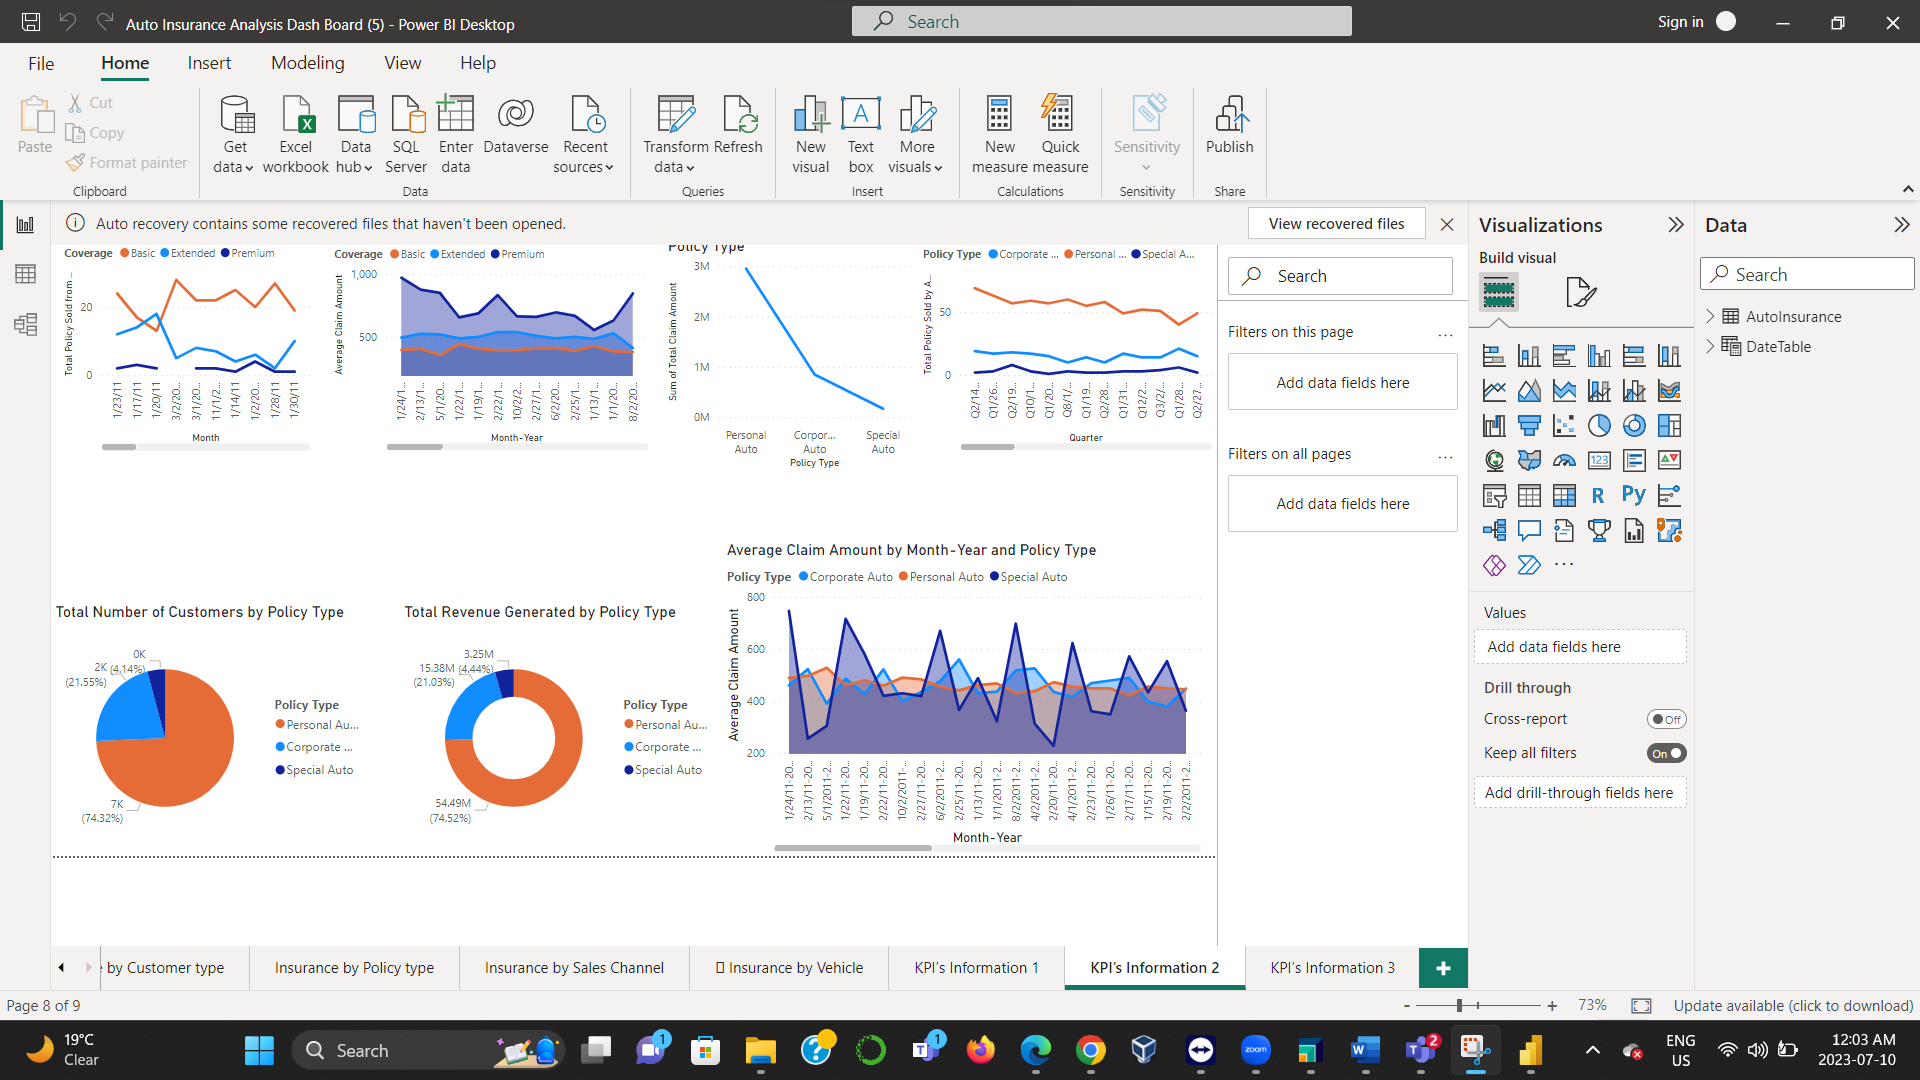

The dashboard page shown, as its layout file describes it:
{"tool":"powerbi","page":{"name":"KPI’s Information 2","canvas":[1280,720],"ordinal":7},"visuals":[{"type":"lineChart","fields":{"Y":["AutoInsurance.Total Policy Sold from Web"],"Category":["AutoInsurance.Month"],"Series":["AutoInsurance.Coverage"]},"box":[10,0,280,280],"z":0},{"type":"areaChart","fields":{"Y":["AutoInsurance.Average Claim Amount"],"Category":["AutoInsurance.Month-Year"],"Series":["AutoInsurance.Coverage"]},"box":[305.7,1.7,354.4,278.8],"z":1000},{"type":"lineChart","fields":{"Y":["Sum(AutoInsurance.Total Claim Amount)"],"Category":["AutoInsurance.Policy Type"]},"box":[671.9,20.2,280.5,278.8],"z":2000},{"type":"pieChart","fields":{"Y":["AutoInsurance.Total Number of Customers"],"Category":["AutoInsurance.Policy Type"]},"box":[0,441.8,354.4,278.8],"z":3000},{"type":"donutChart","fields":{"Y":["AutoInsurance.Total Revenue Generated"],"Category":["AutoInsurance.Policy Type"]},"box":[383,441.8,354.4,278.8],"z":4000},{"type":"lineChart","fields":{"Y":["AutoInsurance.Total Policy Sold by Agent"],"Series":["AutoInsurance.Policy Type"],"Category":["AutoInsurance.Quarter"]},"box":[952.4,1.7,327.6,278.8],"z":5000},{"type":"areaChart","fields":{"Y":["AutoInsurance.Average Claim Amount"],"Category":["AutoInsurance.Month-Year"],"Series":["AutoInsurance.Policy Type"]},"box":[737.4,372.9,530.8,347.7],"z":6000}]}

Visuals, with their boxes on the page's 1280x720 design canvas (x1, y1, x2, y2). These are canvas units, not pixel positions in the 1920x1080 screenshot, which may show the page scaled, cropped or inside an application window:
lineChart - AutoInsurance.Total Policy Sold from Web x AutoInsurance.Month: (left=10, top=0, right=290, bottom=280)
areaChart - AutoInsurance.Average Claim Amount x AutoInsurance.Month-Year: (left=306, top=2, right=660, bottom=280)
lineChart - Sum(AutoInsurance.Total Claim Amount) x AutoInsurance.Policy Type: (left=672, top=20, right=952, bottom=299)
pieChart - AutoInsurance.Total Number of Customers x AutoInsurance.Policy Type: (left=0, top=442, right=354, bottom=721)
donutChart - AutoInsurance.Total Revenue Generated x AutoInsurance.Policy Type: (left=383, top=442, right=737, bottom=721)
lineChart - AutoInsurance.Total Policy Sold by Agent x AutoInsurance.Policy Type: (left=952, top=2, right=1280, bottom=280)
areaChart - AutoInsurance.Average Claim Amount x AutoInsurance.Month-Year: (left=737, top=373, right=1268, bottom=721)
